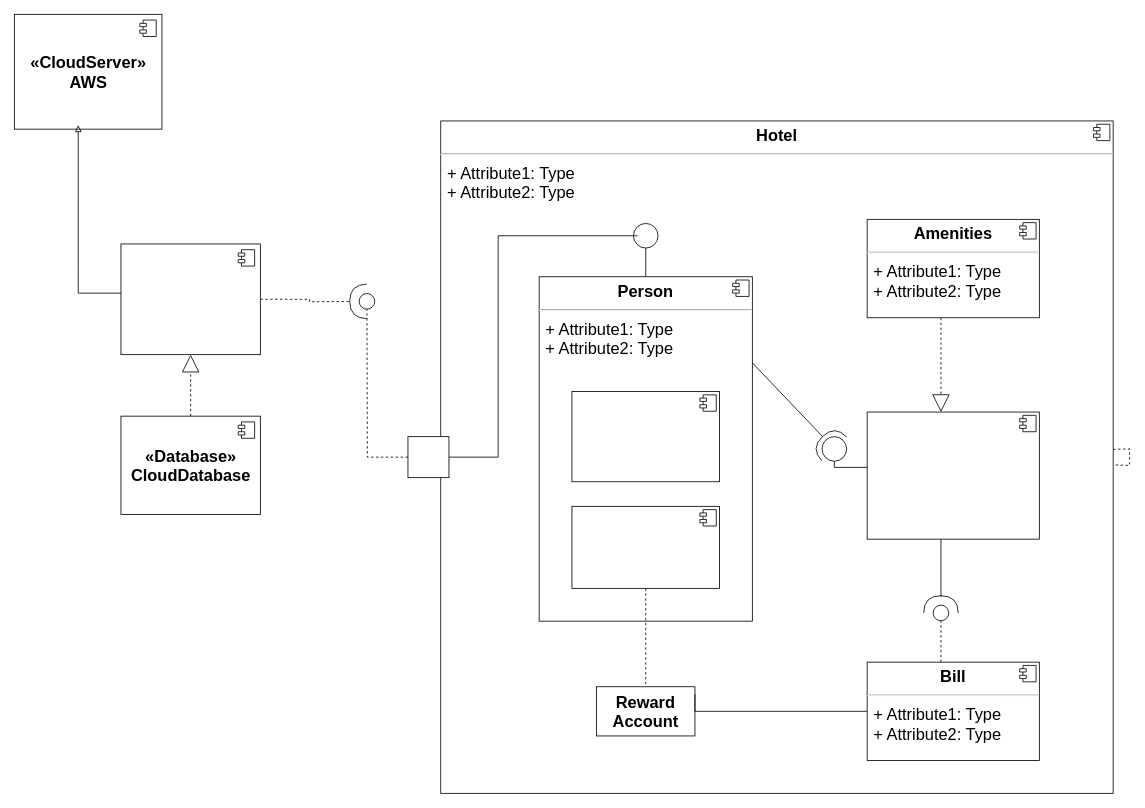
The diagram is 1145 pixels wide and 808 high, and some of its shapes have lost their labels. Each missing label, with the centre of its shape:
Booking + Attribute1: Type + Attribute2: Type: the point at 952,475
Employee + Attribute1: Type + Attribute2: Type: the point at 645,436
Guest + Attribute1: Type + Attribute2: Type: the point at 645,547
«Application» HotelBooking: the point at 190,299
